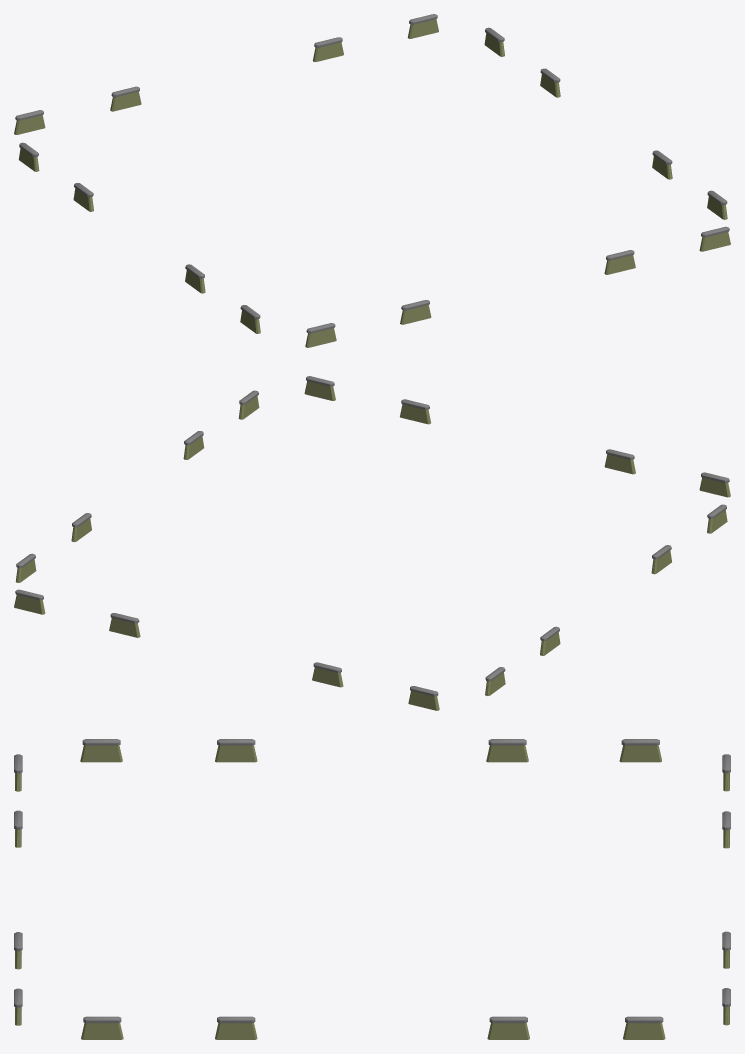
File: Covers.fbx
3 renders of one model, top to bottom at view 1: azimuth 30°, elevation 25°; view 2: azimuth 150°, elevation 25°; view 3: azimuth 270°, elevation 25°, orthographic. The views are drawn at different scales.
Visible parts, largest first — view 1: Covers; view 2: Covers; view 3: Covers.
Part boxes in pixels (<box>): Covers: <box>14,14,730,347</box>; Covers: <box>14,376,730,710</box>; Covers: <box>14,739,730,1039</box>.
Size of the model in its own units: 2267 by 81.15 by 2444.
